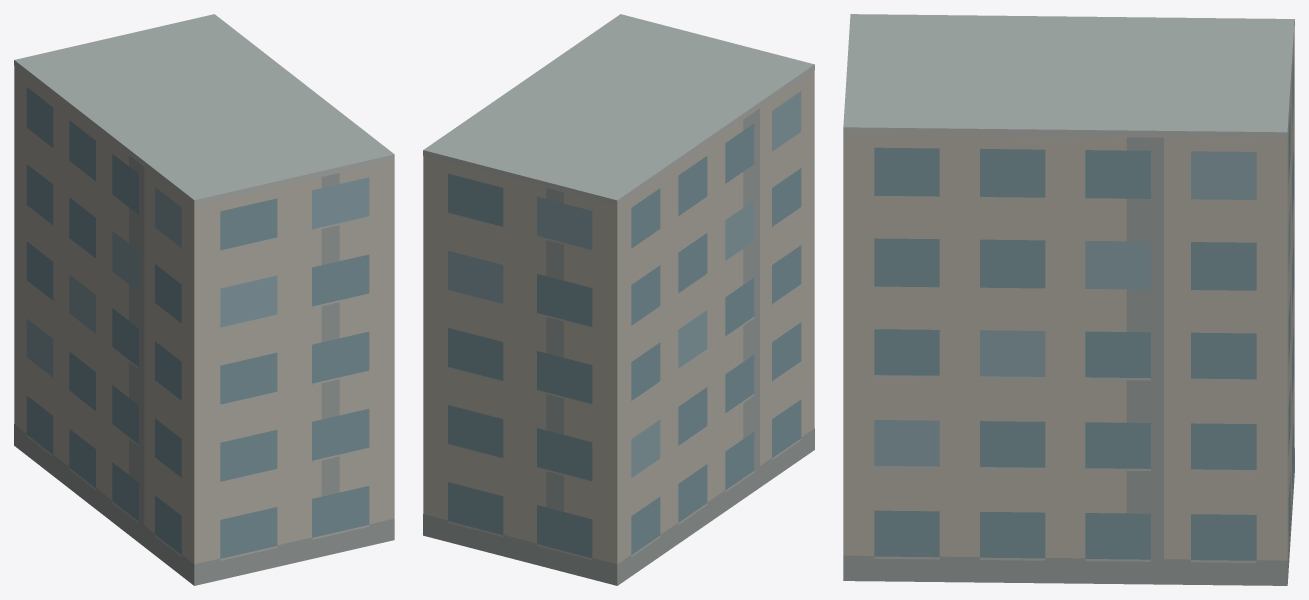
The model's file is survey-upis-32748794.glb.
The picture shows the model from 3 angles, left to right: view 1: azimuth 30°, elevation 25°; view 2: azimuth 150°, elevation 25°; view 3: azimuth 270°, elevation 25°; orthographic projection. The views are drawn at different scales.
Parts seen in each view (by area): view 1: survey-upis-32748794.tmp; view 2: survey-upis-32748794.tmp; view 3: survey-upis-32748794.tmp.
Part boxes in pixels (x1,y1,x2,y2): survey-upis-32748794.tmp: (14,14,394,585); survey-upis-32748794.tmp: (423,14,814,585); survey-upis-32748794.tmp: (843,14,1294,585).
Size of the model in its own units: 8.95 by 16 by 14.44.
